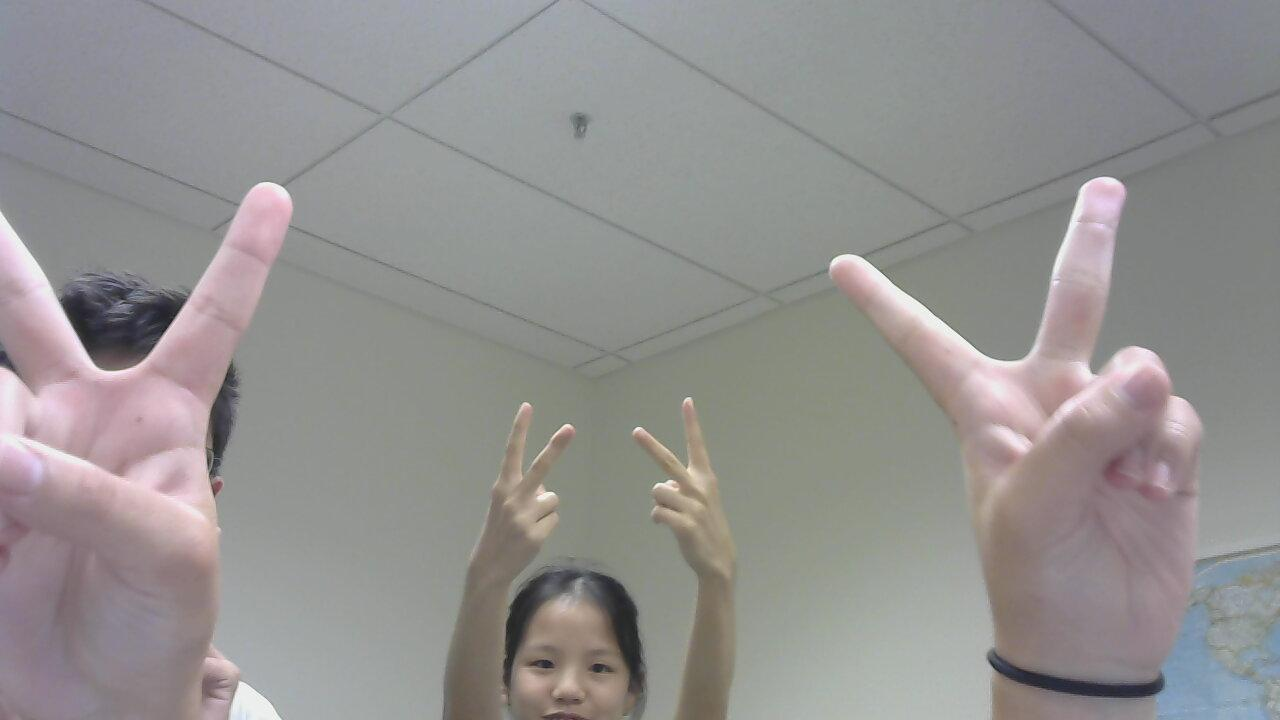peace: (816, 167, 1229, 679), (621, 392, 752, 588), (478, 397, 584, 586)
